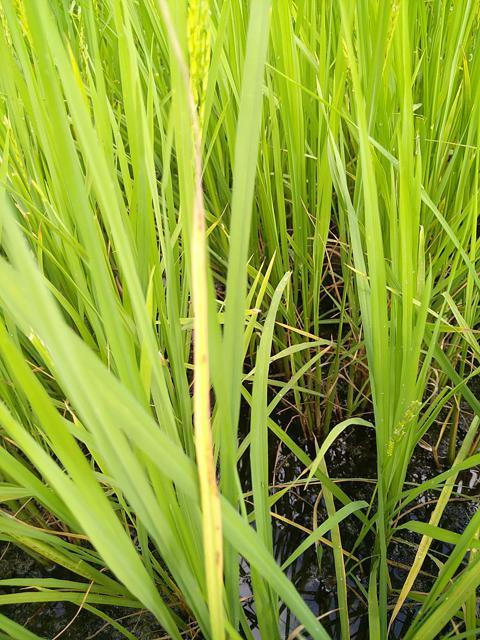Leaf Blight: (157, 0, 244, 639)
